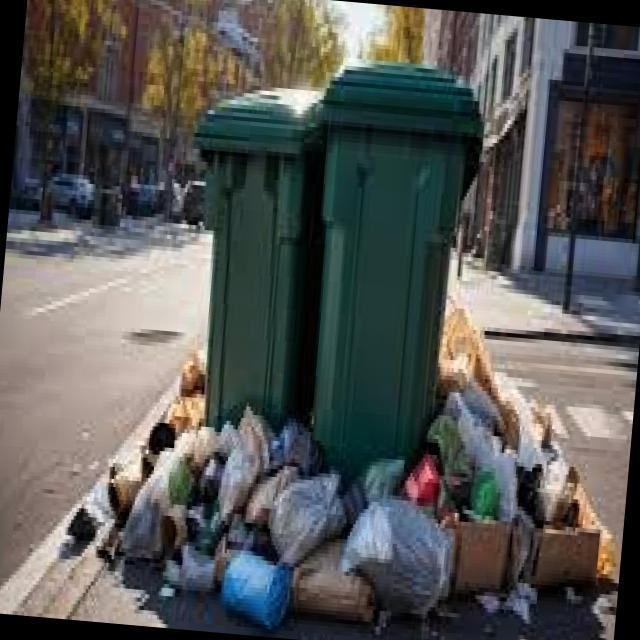garbage: (103, 34, 640, 640), (333, 486, 463, 628), (261, 460, 353, 575), (212, 540, 300, 639)
